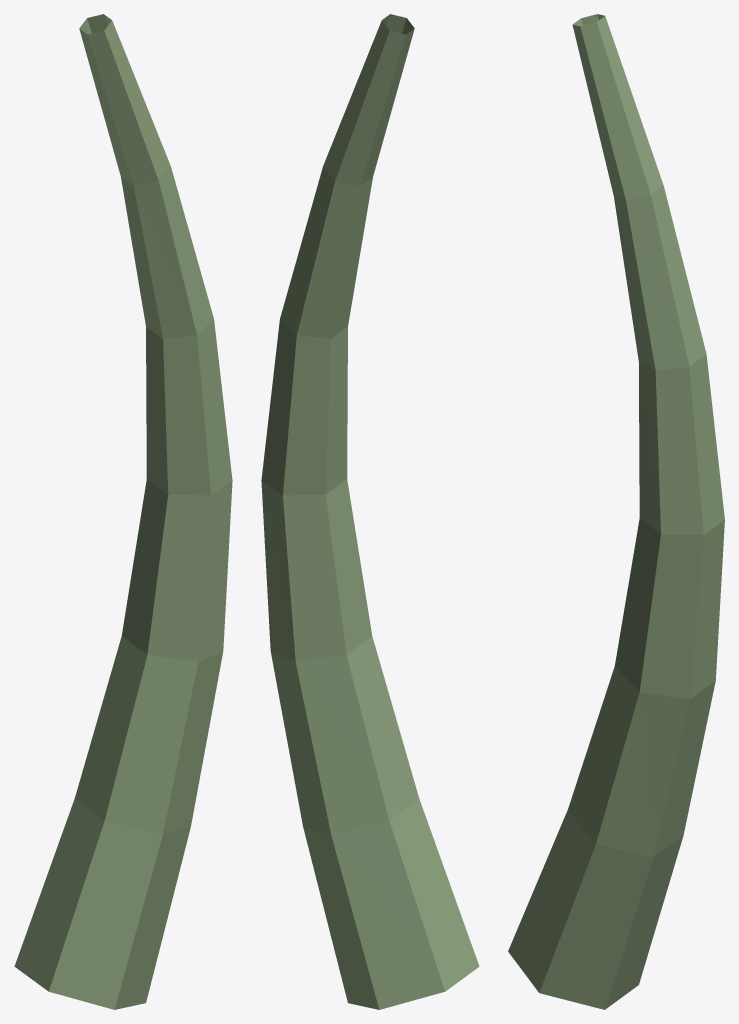
Rendered from Filament.gltf.
The picture shows the model from 3 angles, left to right: view 1: azimuth 30°, elevation 25°; view 2: azimuth 150°, elevation 25°; view 3: azimuth 330°, elevation 25°; orthographic projection.
Parts seen in each view (by area): view 1: Filament; view 2: Filament; view 3: Filament.
Boxes of the visible parts, x1,y1,x2,y2 form: Filament: [14, 14, 232, 1009]; Filament: [261, 14, 479, 1009]; Filament: [508, 14, 724, 1009].
Size of the model in its own units: 0.2081 by 1.02 by 0.13.
